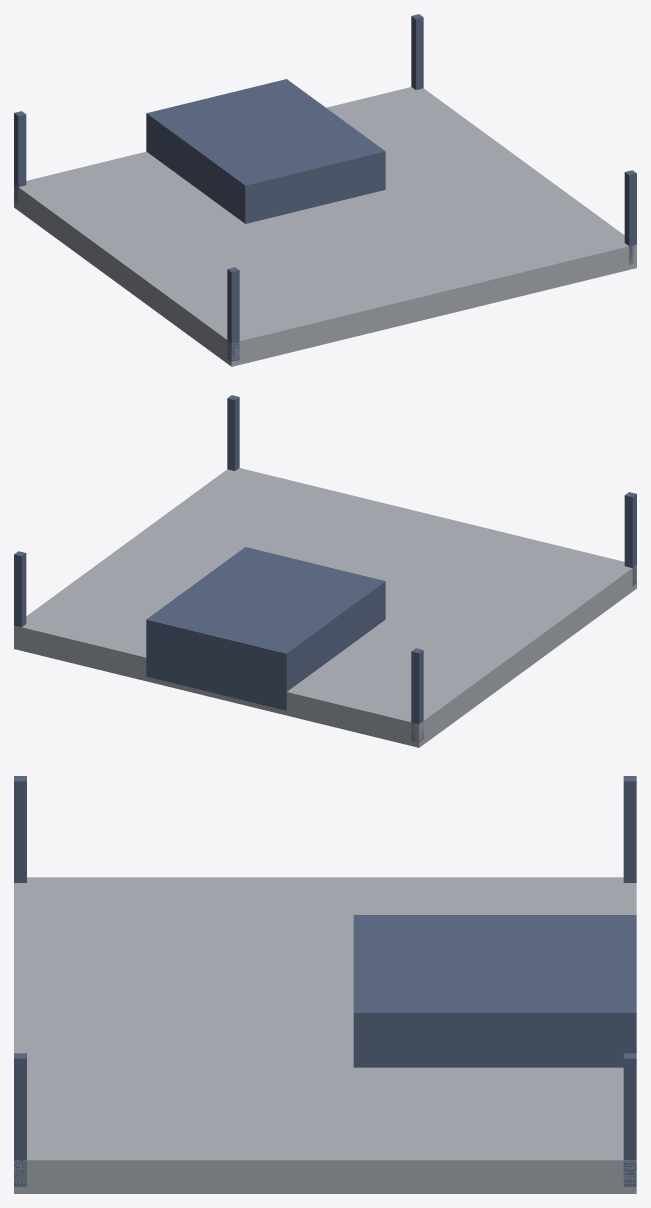
Rendered from office-roof-a.zfix-v3.lod2.glb.
The picture shows the model from 3 angles, top to bottom: view 1: azimuth 30°, elevation 25°; view 2: azimuth 150°, elevation 25°; view 3: azimuth 270°, elevation 25°; orthographic projection. The views are drawn at different scales.
Parts seen in each view (by area): view 1: office-roof-a; view 2: office-roof-a; view 3: office-roof-a.
Boxes of the visible parts, x1,y1,x2,y2 form: office-roof-a: (14,14,636,366); office-roof-a: (14,395,636,747); office-roof-a: (14,776,636,1193).
Size of the model in its own units: 26 by 5.8 by 24.22.
